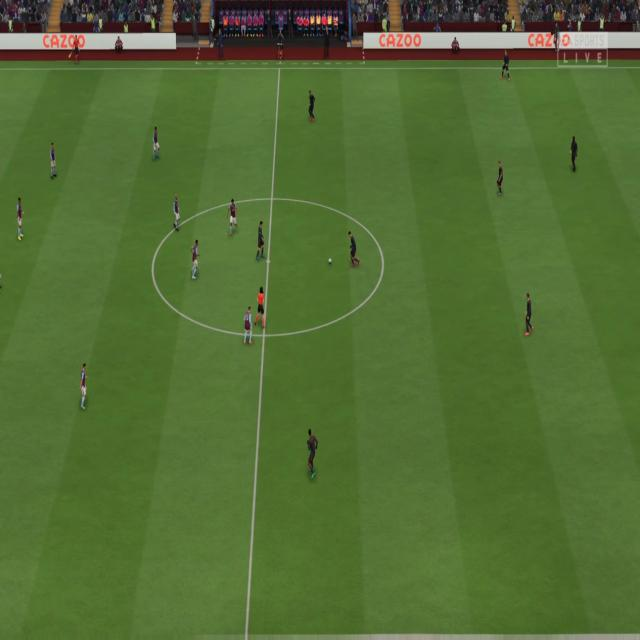Referee: (255, 287, 268, 329), (328, 258, 333, 265)
Team-A: (306, 429, 320, 481), (254, 220, 265, 262), (525, 292, 535, 336), (347, 231, 359, 267), (570, 138, 580, 174), (307, 90, 317, 122), (497, 161, 506, 195), (502, 52, 512, 80)
Team-H: (190, 241, 202, 280), (14, 197, 24, 242), (78, 365, 87, 412), (228, 200, 239, 238), (242, 306, 253, 343), (171, 194, 182, 230), (153, 128, 163, 162), (50, 143, 56, 180)
